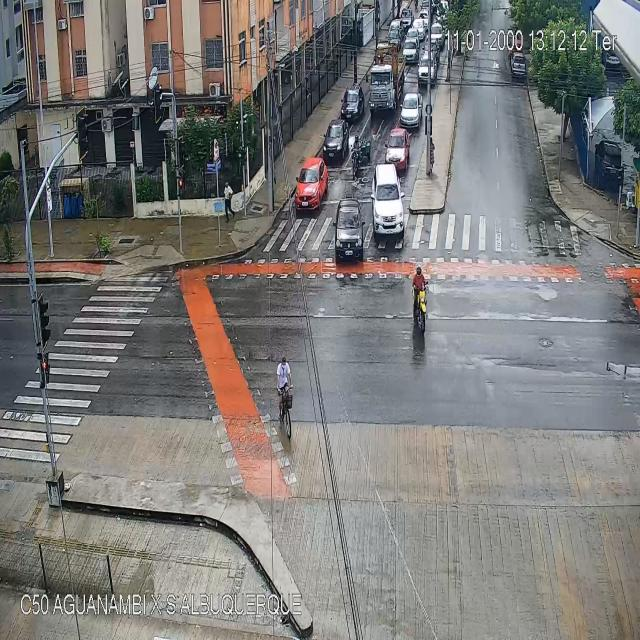Car: (373, 163, 405, 243), (334, 198, 366, 264), (293, 157, 328, 216), (384, 128, 414, 174), (324, 121, 350, 160), (401, 94, 424, 132), (417, 51, 438, 86), (341, 86, 364, 117), (510, 47, 531, 77), (403, 34, 420, 63), (424, 40, 440, 66), (430, 22, 444, 48), (386, 28, 401, 50), (407, 26, 420, 45), (402, 7, 413, 27)
Motorcycle: (412, 268, 428, 334), (353, 136, 360, 180)
Truck: (366, 44, 404, 110)
